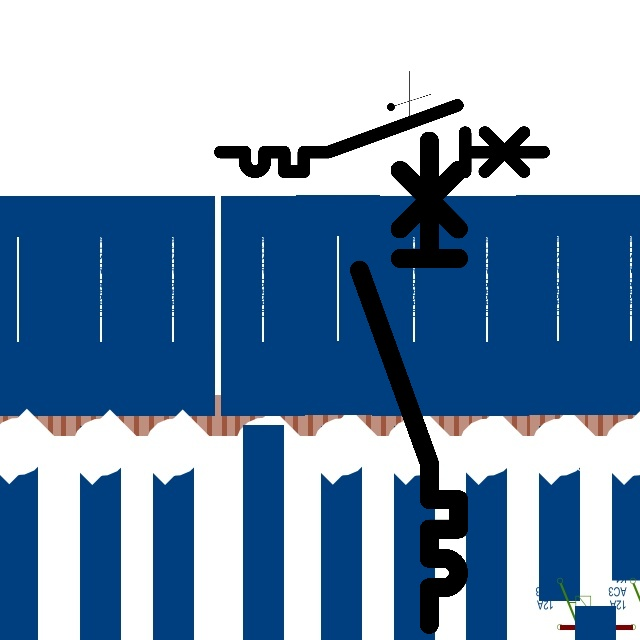interruptor_termomagnetico: (347, 128, 471, 637), (212, 97, 552, 180)
